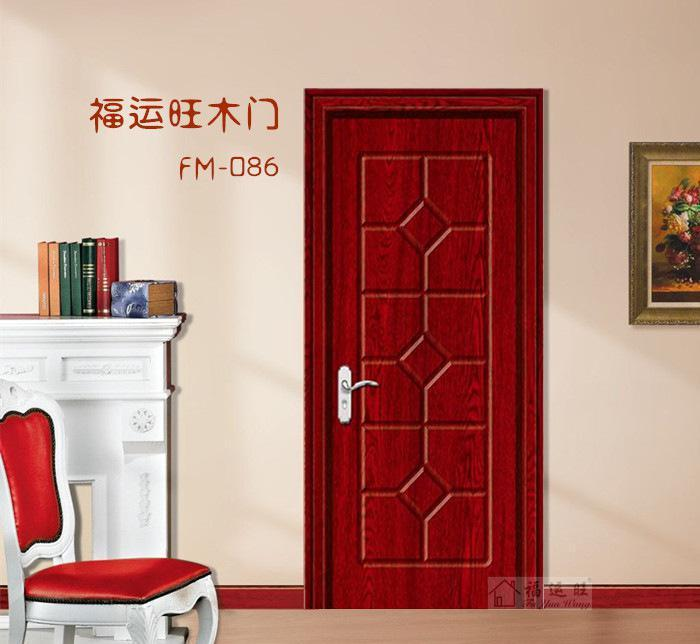door: (306, 90, 541, 610)
